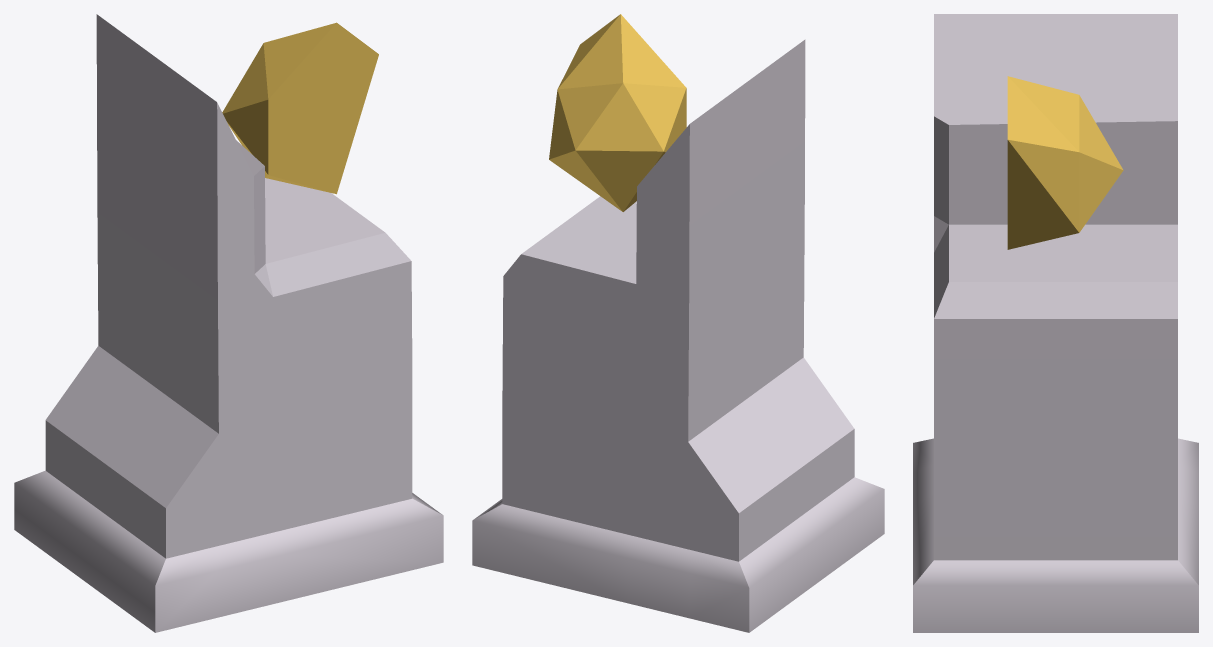
Rendered from Runestone.fbx.
3 views of the same model, side by side, from view 1: azimuth 30°, elevation 25°; view 2: azimuth 150°, elevation 25°; view 3: azimuth 270°, elevation 25° (orthographic). The views are drawn at different scales.
Parts seen in each view (by area): view 1: pasted__rune_stand, pasted__runestone; view 2: pasted__rune_stand, pasted__runestone; view 3: pasted__rune_stand, pasted__runestone.
Boxes of the visible parts, left/top/right/bottom form: pasted__rune_stand: left=14, top=14, right=443, bottom=632; pasted__runestone: left=222, top=22, right=378, bottom=194; pasted__rune_stand: left=472, top=39, right=884, bottom=632; pasted__runestone: left=549, top=14, right=686, bottom=211; pasted__rune_stand: left=913, top=14, right=1198, bottom=632; pasted__runestone: left=1007, top=76, right=1123, bottom=249.
Size of the model in its own units: 0.8756 by 1.51 by 0.7415.
